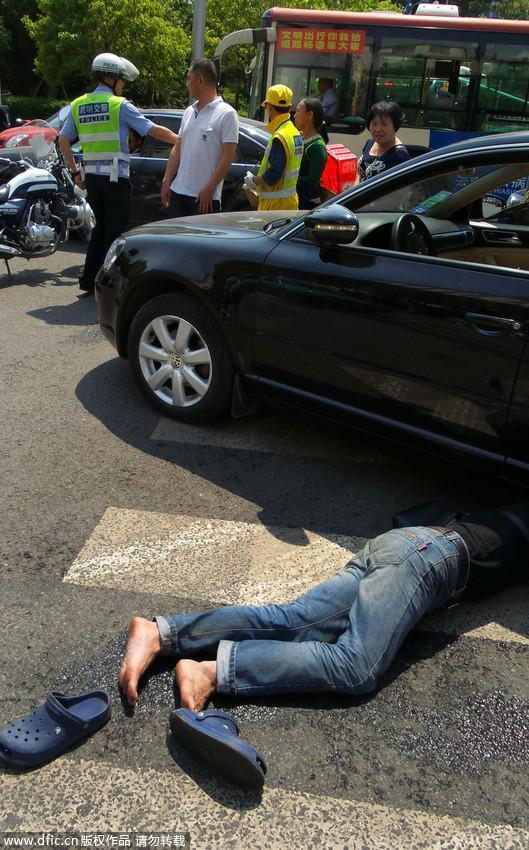Fall-Detected: (116, 442, 521, 761)
